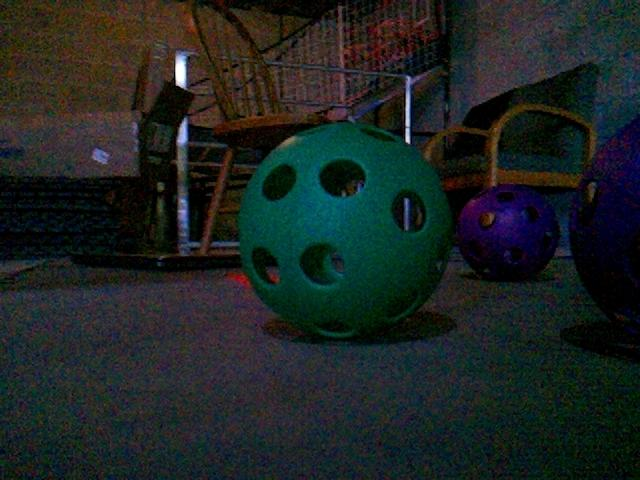Green: (236, 123, 452, 338)
Purple: (569, 105, 640, 347), (456, 185, 560, 280)
